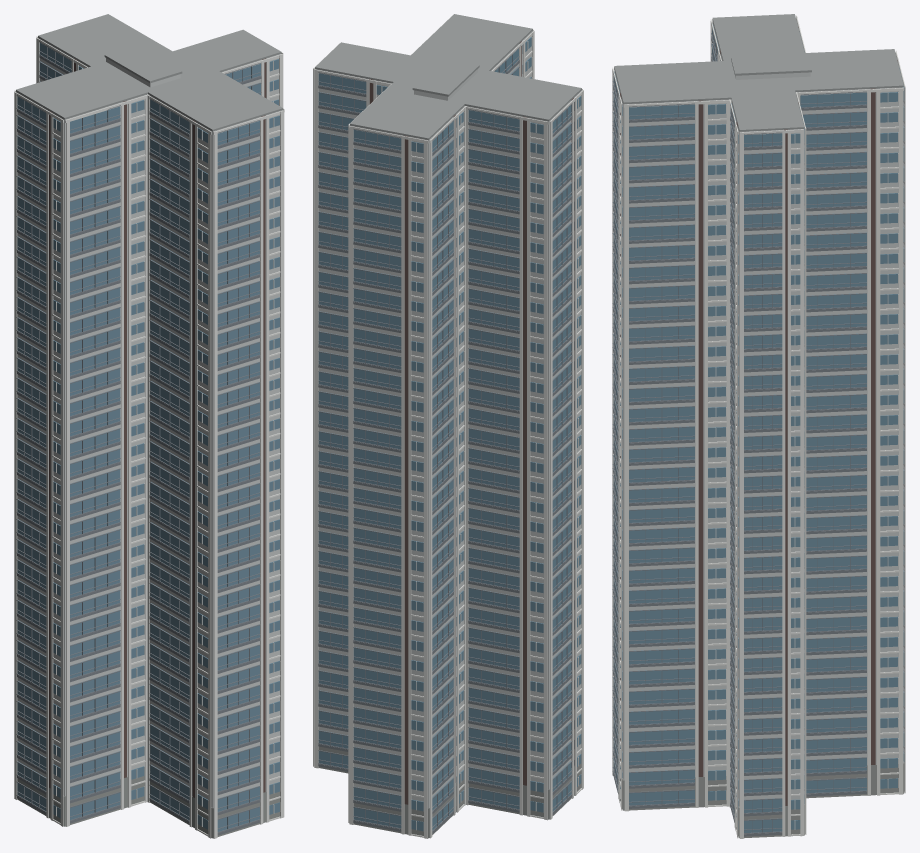
File: bespoke-acro-riverview-103.glb
3 renders of one model, left to right at view 1: azimuth 30°, elevation 25°; view 2: azimuth 150°, elevation 25°; view 3: azimuth 270°, elevation 25°, orthographic.
Parts seen in each view (by area): view 1: ARV103_editable_ARV103_blue_grey_horizontal_glazing, ARV103_editable_ARV103_dark_horizontal_spandrels_and_mullion, ARV103_editable_ARV103_broad_white_facade_frames, ARV103_editable_ARV103_light_grey_solid_wall, ARV103_editable_ARV103_modest_grey_flat_roof_caps, ARV103_editable_ARV103_recessed_brown_vertical_seams, ARV103_editable_ARV103_muted_ground_wall; view 2: ARV103_editable_ARV103_blue_grey_horizontal_glazing, ARV103_editable_ARV103_dark_horizontal_spandrels_and_mullion, ARV103_editable_ARV103_broad_white_facade_frames, ARV103_editable_ARV103_light_grey_solid_wall, ARV103_editable_ARV103_modest_grey_flat_roof_caps, ARV103_editable_ARV103_recessed_brown_vertical_seams, ARV103_editable_ARV103_muted_ground_wall; view 3: ARV103_editable_ARV103_blue_grey_horizontal_glazing, ARV103_editable_ARV103_dark_horizontal_spandrels_and_mullion, ARV103_editable_ARV103_broad_white_facade_frames, ARV103_editable_ARV103_light_grey_solid_wall, ARV103_editable_ARV103_modest_grey_flat_roof_caps, ARV103_editable_ARV103_recessed_brown_vertical_seams, ARV103_editable_ARV103_muted_ground_wall.
Boxes of the visible parts, x1,y1,x2,y2 form: ARV103_editable_ARV103_blue_grey_horizontal_glazing: [17, 43, 279, 831]; ARV103_editable_ARV103_dark_horizontal_spandrels_and_mullion: [16, 41, 261, 835]; ARV103_editable_ARV103_broad_white_facade_frames: [14, 36, 284, 838]; ARV103_editable_ARV103_light_grey_solid_wall: [16, 37, 282, 807]; ARV103_editable_ARV103_modest_grey_flat_roof_caps: [16, 14, 283, 131]; ARV103_editable_ARV103_recessed_brown_vertical_seams: [49, 58, 266, 797]; ARV103_editable_ARV103_muted_ground_wall: [17, 772, 280, 838]; ARV103_editable_ARV103_blue_grey_horizontal_glazing: [318, 37, 581, 831]; ARV103_editable_ARV103_dark_horizontal_spandrels_and_mullion: [318, 47, 572, 833]; ARV103_editable_ARV103_broad_white_facade_frames: [313, 15, 583, 838]; ARV103_editable_ARV103_light_grey_solid_wall: [315, 31, 581, 808]; ARV103_editable_ARV103_modest_grey_flat_roof_caps: [315, 14, 581, 139]; ARV103_editable_ARV103_recessed_brown_vertical_seams: [369, 41, 574, 804]; ARV103_editable_ARV103_muted_ground_wall: [318, 746, 581, 838]; ARV103_editable_ARV103_blue_grey_horizontal_glazing: [613, 24, 904, 832]; ARV103_editable_ARV103_dark_horizontal_spandrels_and_mullion: [612, 31, 904, 836]; ARV103_editable_ARV103_broad_white_facade_frames: [612, 15, 905, 838]; ARV103_editable_ARV103_light_grey_solid_wall: [614, 21, 903, 806]; ARV103_editable_ARV103_modest_grey_flat_roof_caps: [614, 14, 903, 131]; ARV103_editable_ARV103_recessed_brown_vertical_seams: [620, 26, 897, 805]; ARV103_editable_ARV103_muted_ground_wall: [620, 761, 904, 838].
Bounding box in the file's own units: 37.19 × 105 × 39.14.
